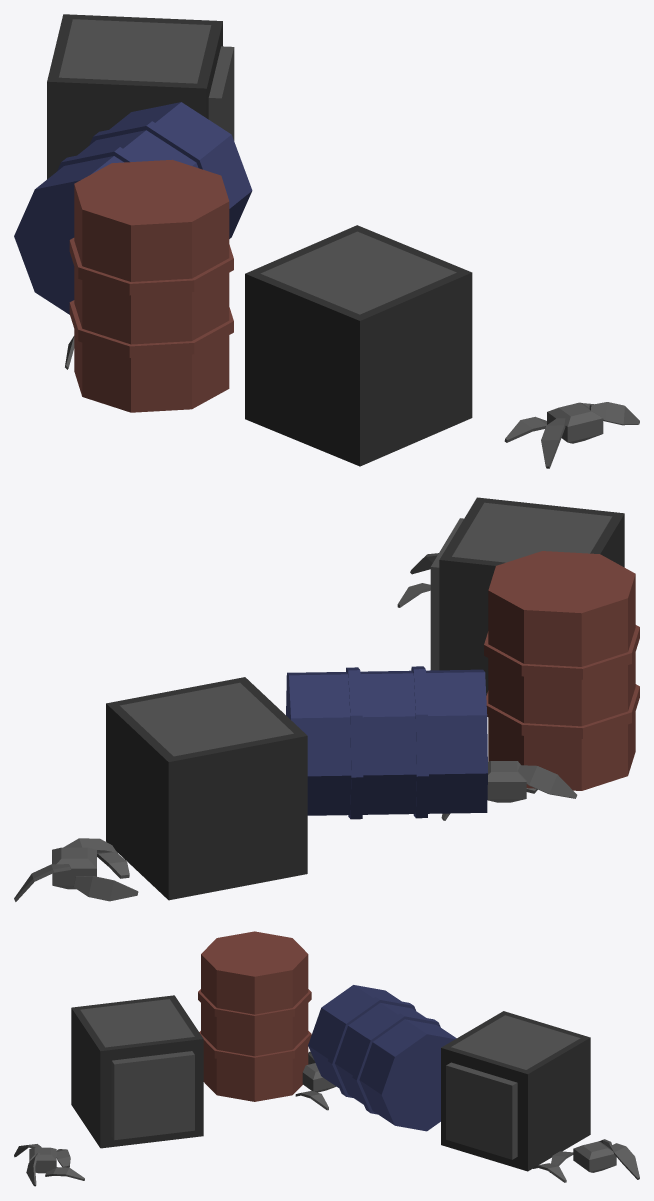
Rendered from openable_box_common.glb.
3 views of the same model, one above another, from view 1: azimuth 30°, elevation 25°; view 2: azimuth 150°, elevation 25°; view 3: azimuth 270°, elevation 25° (orthographic). The views are drawn at different scales.
Parts seen in each view (by area): view 1: Cylinder, openable_box, Cylinder.001, openable_box.001, openable_box_lid.001, openable_box_lid, Cube.004; view 2: Cylinder, openable_box.001, Cylinder.001, openable_box, openable_box_lid.001, openable_box_lid, Cube.014, Cube.009, Cube.004; view 3: Cylinder, openable_box.001, openable_box, Cylinder.001, openable_box_lid.001, openable_box_lid, Cube.014, Cube.004, Cube.009.
Boxes of the visible parts, x1=… form: Cylinder: x1=69, y1=159, x2=233, y2=412; openable_box: x1=245, y1=225, x2=472, y2=466; Cylinder.001: x1=14, y1=102, x2=252, y2=314; openable_box.001: x1=47, y1=14, x2=234, y2=179; openable_box_lid.001: x1=59, y1=19, x2=211, y2=83; openable_box_lid: x1=260, y1=231, x2=456, y2=314; Cube.004: x1=504, y1=402, x2=639, y2=468; Cylinder: x1=484, y1=551, x2=639, y2=790; openable_box.001: x1=106, y1=677, x2=307, y2=900; Cylinder.001: x1=286, y1=666, x2=487, y2=819; openable_box: x1=430, y1=497, x2=624, y2=695; openable_box_lid.001: x1=120, y1=682, x2=293, y2=756; openable_box_lid: x1=452, y1=502, x2=612, y2=562; Cube.014: x1=14, y1=838, x2=138, y2=901; Cube.009: x1=441, y1=761, x2=577, y2=820; Cube.004: x1=397, y1=553, x2=438, y2=607; Cylinder: x1=198, y1=931, x2=311, y2=1101; openable_box.001: x1=441, y1=1011, x2=590, y2=1171; openable_box: x1=71, y1=995, x2=203, y2=1148; Cylinder.001: x1=308, y1=985, x2=456, y2=1131; openable_box_lid.001: x1=451, y1=1015, x2=580, y2=1069; openable_box_lid: x1=80, y1=999, x2=194, y2=1047; Cube.014: x1=533, y1=1139, x2=639, y2=1182; Cube.004: x1=14, y1=1144, x2=84, y2=1186; Cube.009: x1=295, y1=1051, x2=336, y2=1110.
Size of the model in its own units: 4.04 by 1.94 by 8.25.
